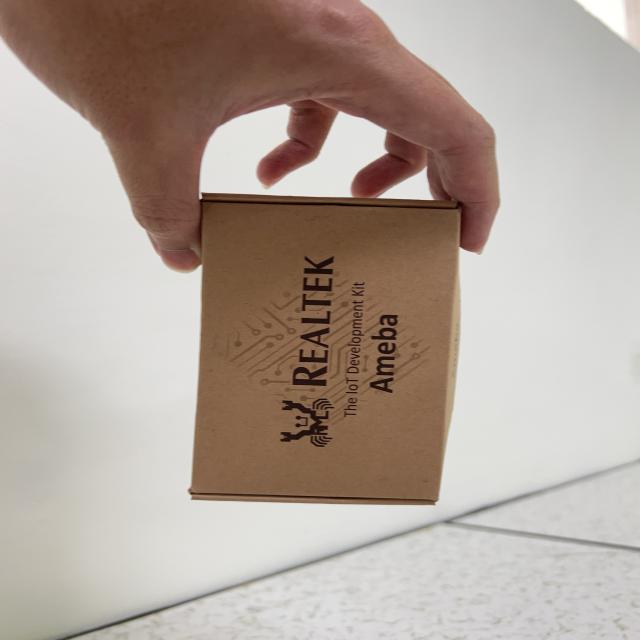box: (179, 175, 466, 548)
